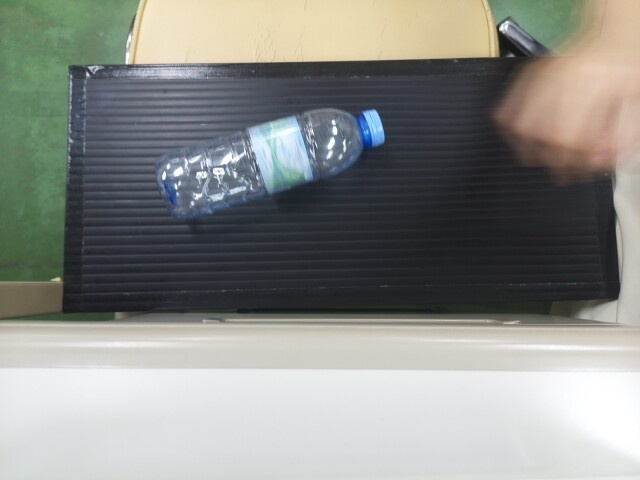plastic_bottle: (155, 103, 388, 221)
